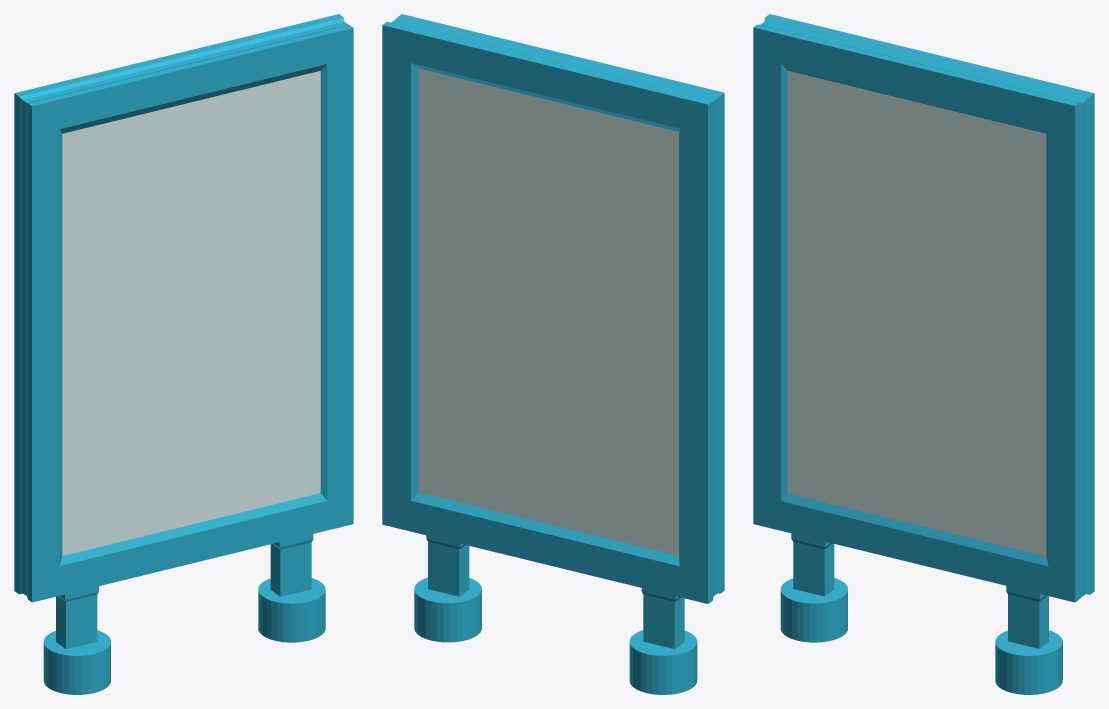
Rendered from panneau.fbx.
3 views of the same model, side by side, from view 1: azimuth 30°, elevation 25°; view 2: azimuth 150°, elevation 25°; view 3: azimuth 330°, elevation 25° (orthographic).
Visible parts, largest first — view 1: panneau; view 2: panneau; view 3: panneau.
Part boxes in pixels (x1,y1,x2,y2): panneau: (14,14,353,694); panneau: (382,14,724,694); panneau: (753,14,1094,694).
Size of the model in its own units: 250 by 438 by 45.14.
1 material, 1 textured.
